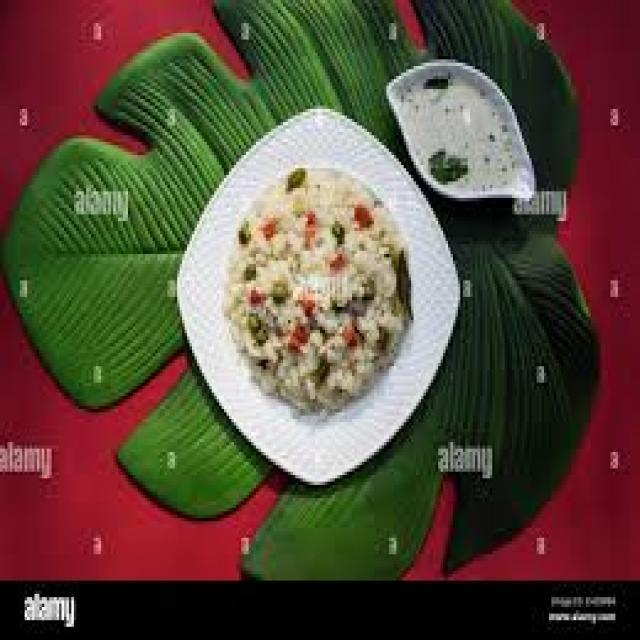UPMA: (226, 168, 406, 402)
